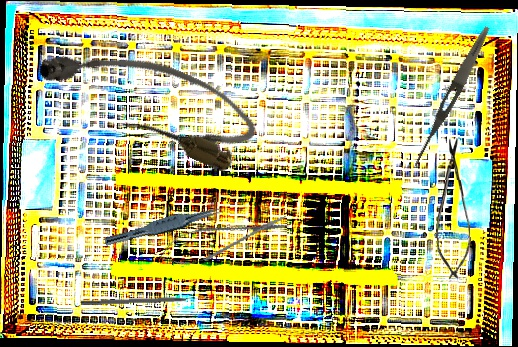Cannula: (28, 17, 266, 178)
Dressing Forceps: (409, 23, 494, 171)
Hook Surgical: (80, 295, 207, 307)
Micro Scissor: (154, 204, 293, 274), (434, 137, 472, 281)
Tissue Forceps: (103, 199, 227, 253)
